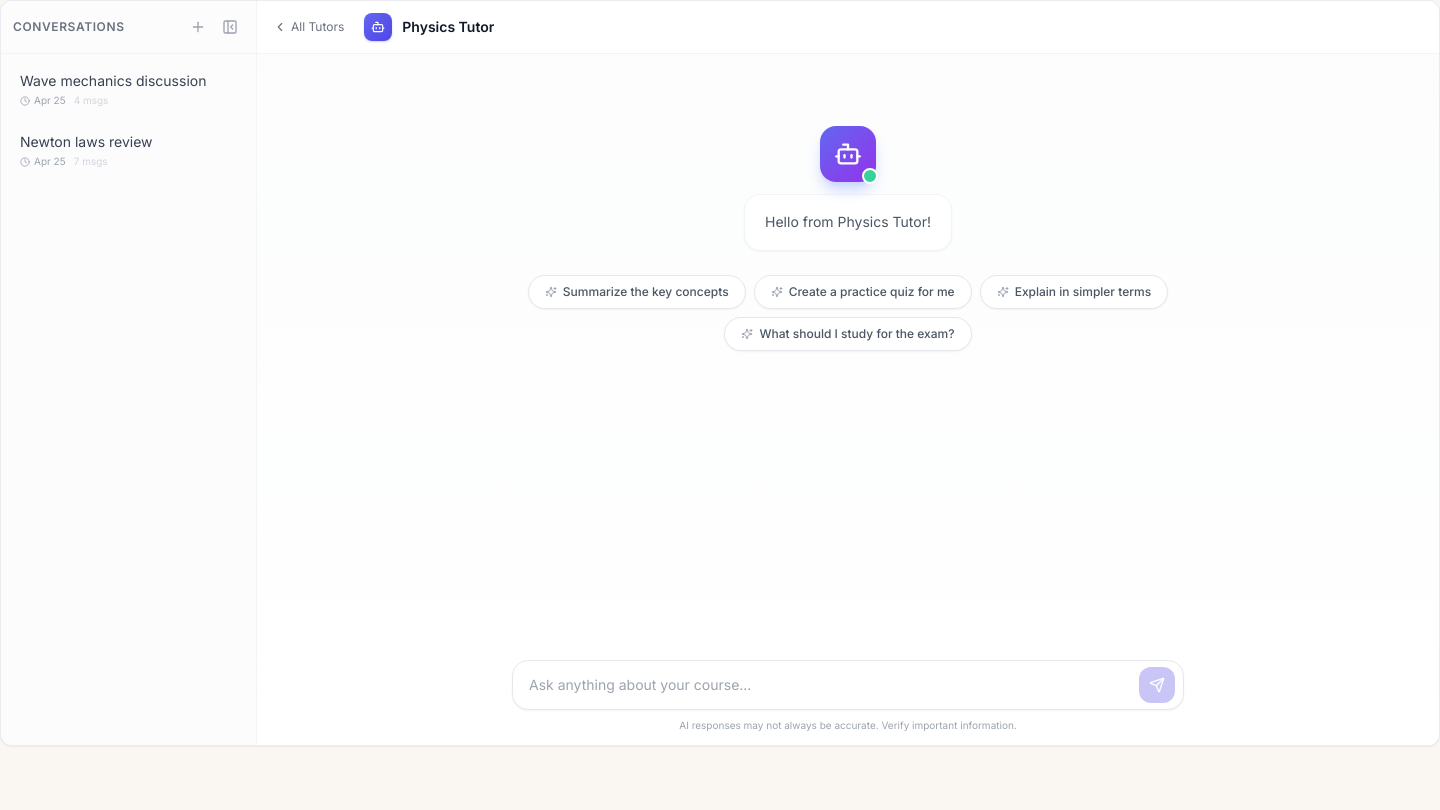
Scenario: StudentChatPage › re-opens the sidebar when the show-conversations button is clicked
Step 1. Click the button titled "Close sidebar" → {"x": 230, "y": 27}, box x1=216 y1=13 x2=244 y2=41
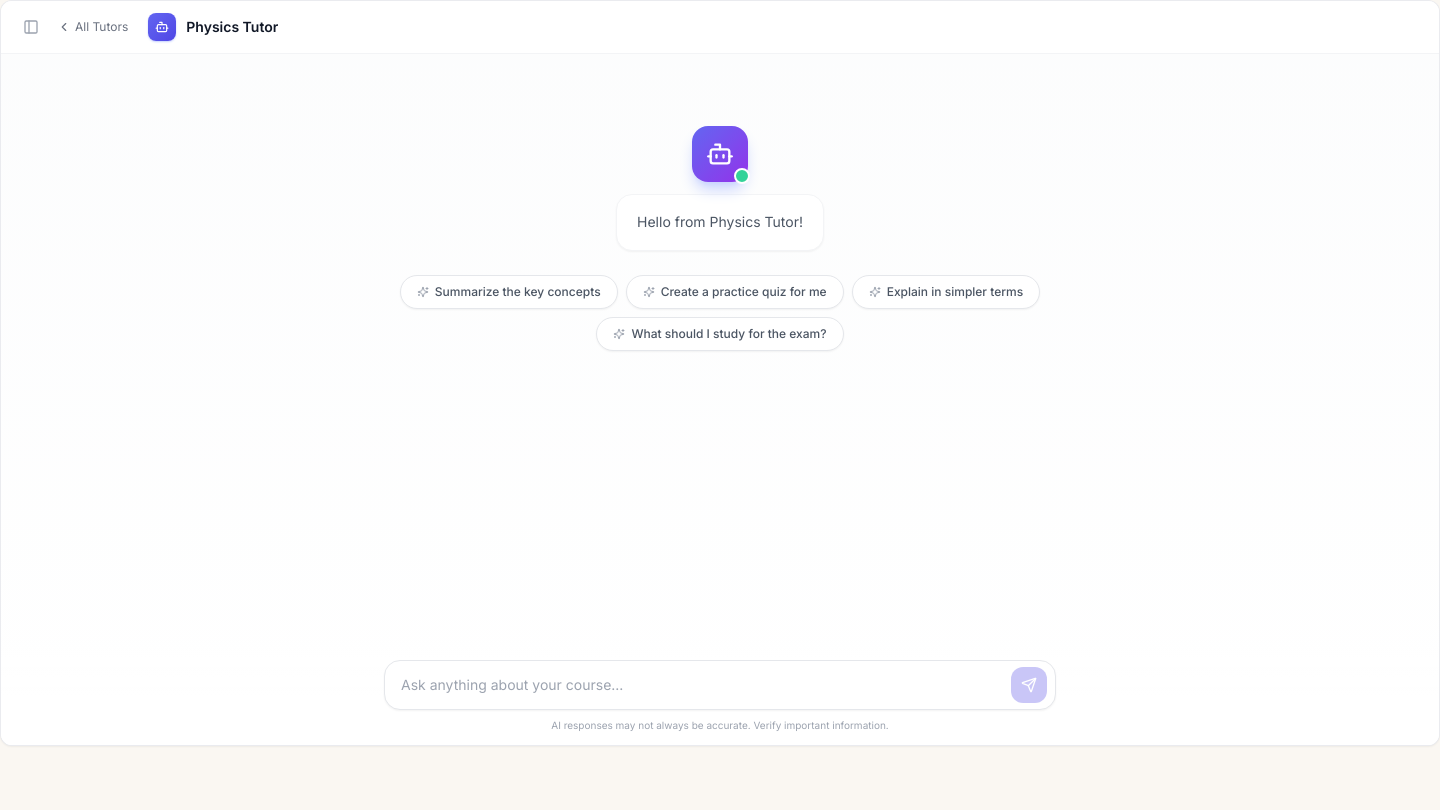
Now the heading "Conversations" is gone
Step 2. Click the button titled "Show conversations" → {"x": 31, "y": 27}, box x1=17 y1=13 x2=45 y2=41
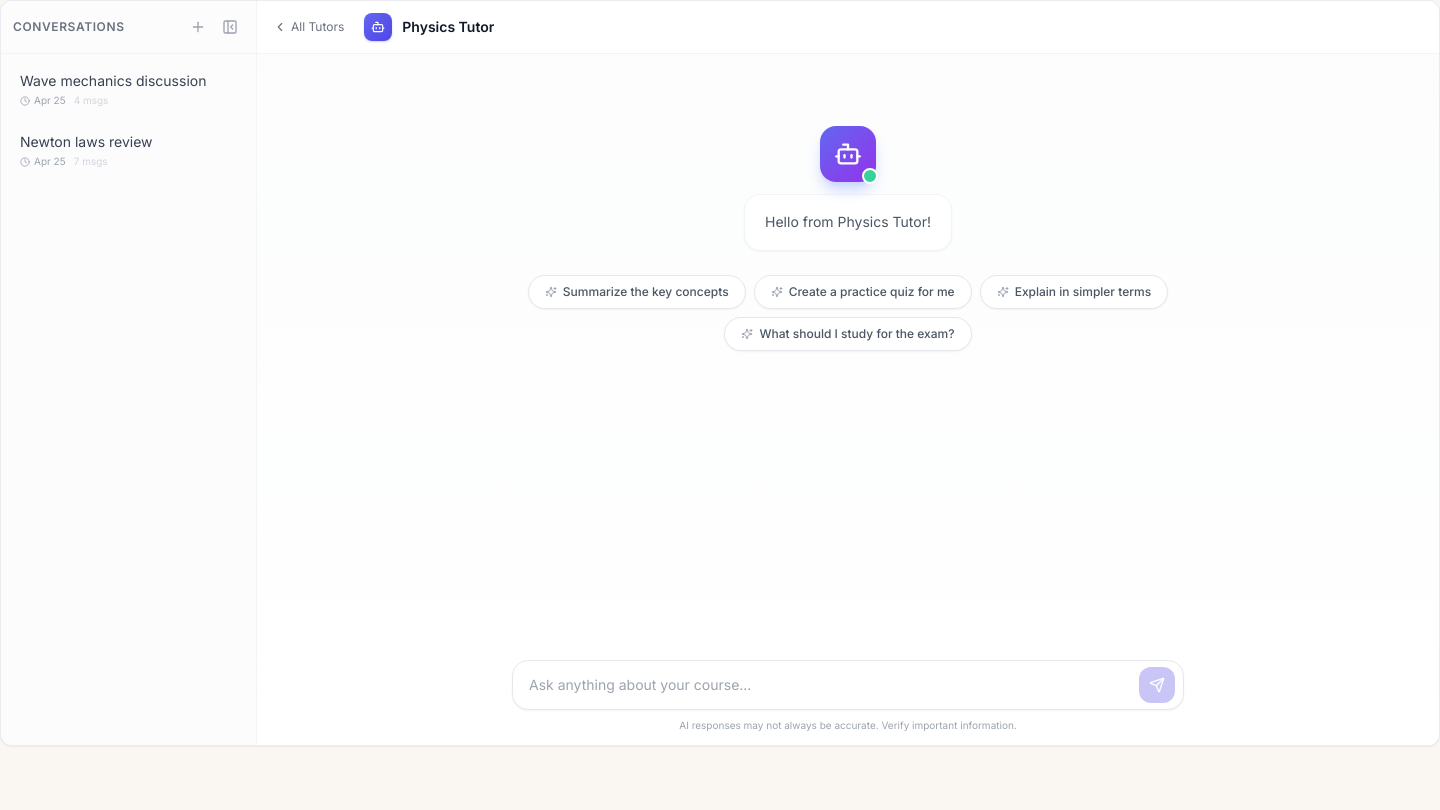
Now the heading "Conversations" is shown, box x1=13 y1=19 x2=124 y2=35
